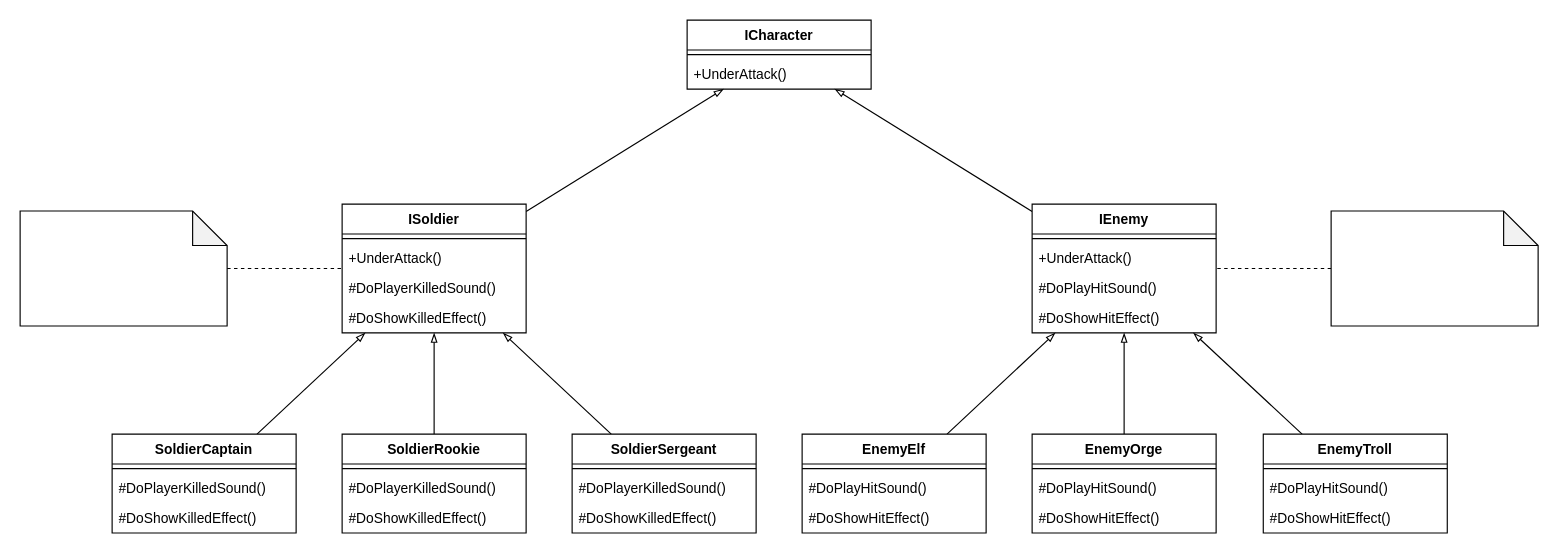
Image size: 1558x557. Some labels were removed from this diagram. Here are the shapes that lost their labels. From the top down, the centre of each, then its label:
the point at 123,268: function UnderAttack(){ ... DoPlayerKilledSound(); DoShowKilledEffect(); }
the point at 1434,268: function UnderAttack(){ ... DoPlayHitSound(); DoShowHitEffect(); }
